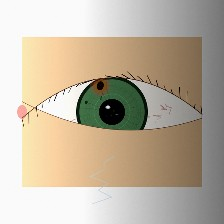foreign_body_visible: (78, 68, 123, 104)
